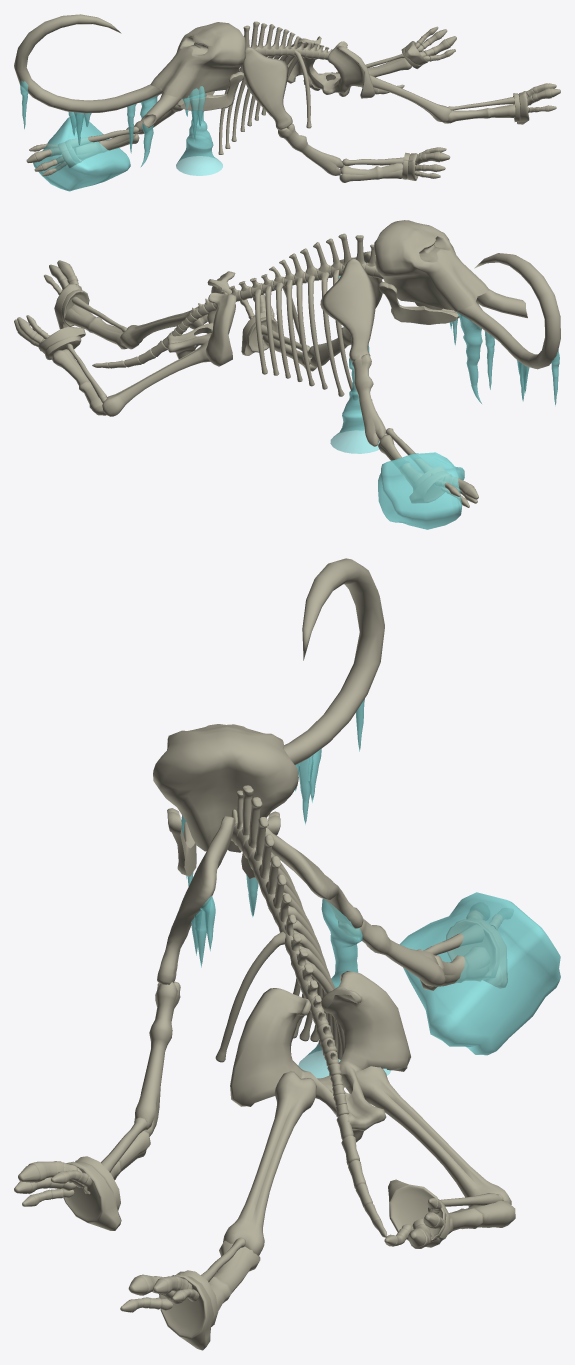
Rendered from Mammoth Skeleton.fbx.
3 renders of one model, top to bottom at view 1: azimuth 30°, elevation 25°; view 2: azimuth 150°, elevation 25°; view 3: azimuth 270°, elevation 25°, orthographic. The views are drawn at different scales.
Parts seen in each view (by area): view 1: skull_geo, ice_chunk_geo, pelvis_geo, left_shoulderblade_geo, spine_geo, ribs_geo, connecting_icicle_geo, front_foot_geo3, front_foot_geo2, front_foot_geo, arm_base_geo1, front_foot_geo1 (+15 smaller); view 2: skull_geo, ice_chunk_geo, ribs_geo, spine_geo, right_shoulderblade_geo, pelvis_geo, connecting_icicle_geo, front_foot_geo, femur_geo1, arm_base_geo, front_foot_geo3, lower_jaw_geo (+10 smaller); view 3: skull_geo, ice_chunk_geo, pelvis_geo, spine_geo, front_foot_geo2, femur_geo, front_foot_geo1, ribs_geo, femur_geo1, front_foot_geo3, left_shoulderblade_geo, arm_base_geo1 (+8 smaller).
Part boxes in pixels (bbox=[...]): skull_geo: bbox=[14, 14, 245, 128]; ice_chunk_geo: bbox=[33, 117, 130, 191]; pelvis_geo: bbox=[284, 36, 375, 98]; left_shoulderblade_geo: bbox=[242, 47, 292, 129]; spine_geo: bbox=[243, 21, 404, 94]; ribs_geo: bbox=[218, 50, 311, 154]; connecting_icicle_geo: bbox=[176, 111, 222, 175]; front_foot_geo3: bbox=[401, 26, 456, 68]; front_foot_geo2: bbox=[402, 147, 450, 180]; front_foot_geo: bbox=[26, 139, 81, 176]; arm_base_geo1: bbox=[278, 123, 343, 175]; front_foot_geo1: bbox=[513, 83, 560, 124]; skull_geo: bbox=[374, 220, 560, 369]; ice_chunk_geo: bbox=[378, 452, 464, 529]; ribs_geo: bbox=[254, 270, 372, 400]; spine_geo: bbox=[92, 233, 383, 368]; right_shoulderblade_geo: bbox=[320, 259, 375, 361]; pelvis_geo: bbox=[167, 271, 236, 366]; connecting_icicle_geo: bbox=[330, 345, 379, 453]; front_foot_geo: bbox=[409, 466, 478, 507]; femur_geo1: bbox=[102, 341, 210, 416]; arm_base_geo: bbox=[352, 354, 385, 446]; front_foot_geo3: bbox=[14, 315, 85, 360]; lower_jaw_geo: bbox=[378, 281, 459, 324]; skull_geo: bbox=[153, 558, 384, 852]; ice_chunk_geo: bbox=[399, 892, 560, 1055]; pelvis_geo: bbox=[230, 971, 410, 1142]; spine_geo: bbox=[231, 785, 386, 1237]; front_foot_geo2: bbox=[14, 1156, 121, 1230]; femur_geo: bbox=[223, 1071, 316, 1255]; front_foot_geo1: bbox=[120, 1270, 218, 1350]; ribs_geo: bbox=[215, 852, 344, 1062]; femur_geo1: bbox=[345, 1066, 511, 1207]; front_foot_geo3: bbox=[384, 1179, 450, 1248]; left_shoulderblade_geo: bbox=[157, 816, 234, 984]; arm_base_geo1: bbox=[134, 981, 180, 1136].
Bounding box in the file's own units: 40.6 × 16.79 × 19.79.
